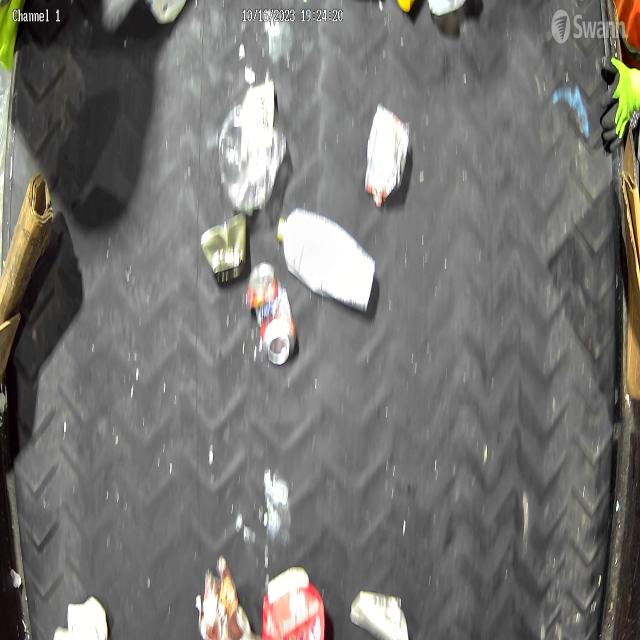can: (245, 260, 298, 368), (363, 102, 412, 202), (200, 209, 249, 288)
